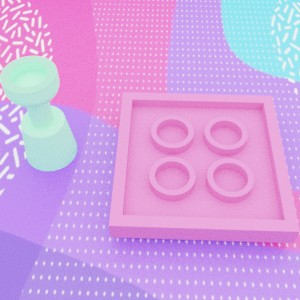lego: (108, 92, 300, 243), (0, 55, 77, 171)
